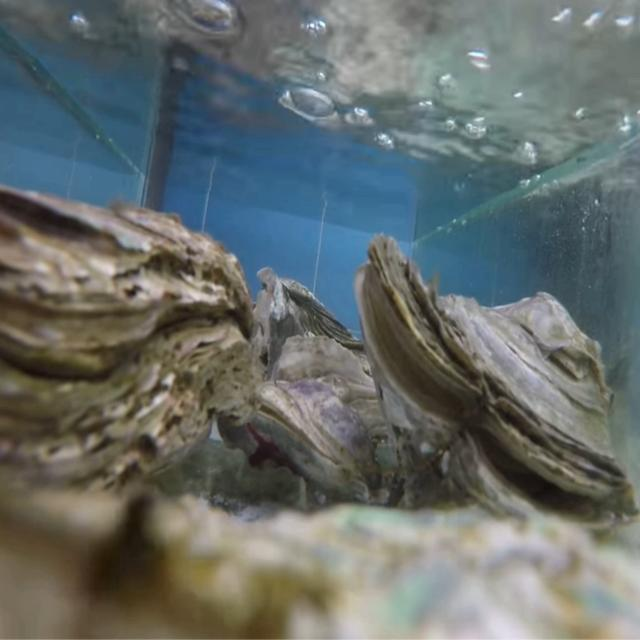Oyster-Closed: (0, 184, 256, 519), (250, 335, 405, 506)
Oyster-Indeterminate: (0, 484, 640, 640)
Oyster-Open: (352, 235, 640, 541)
